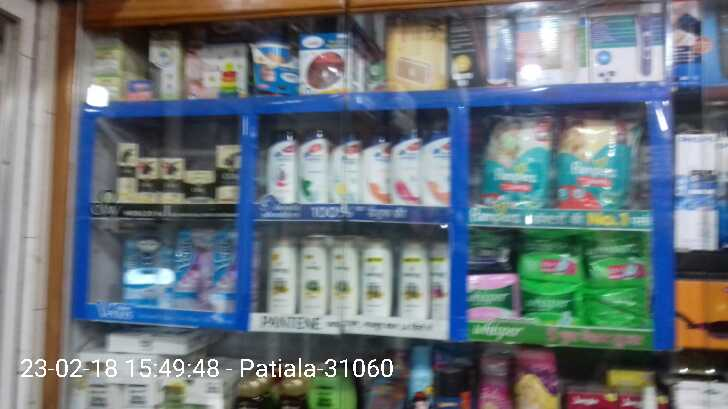venus: (124, 228, 175, 303), (175, 228, 207, 310), (207, 229, 238, 310)
